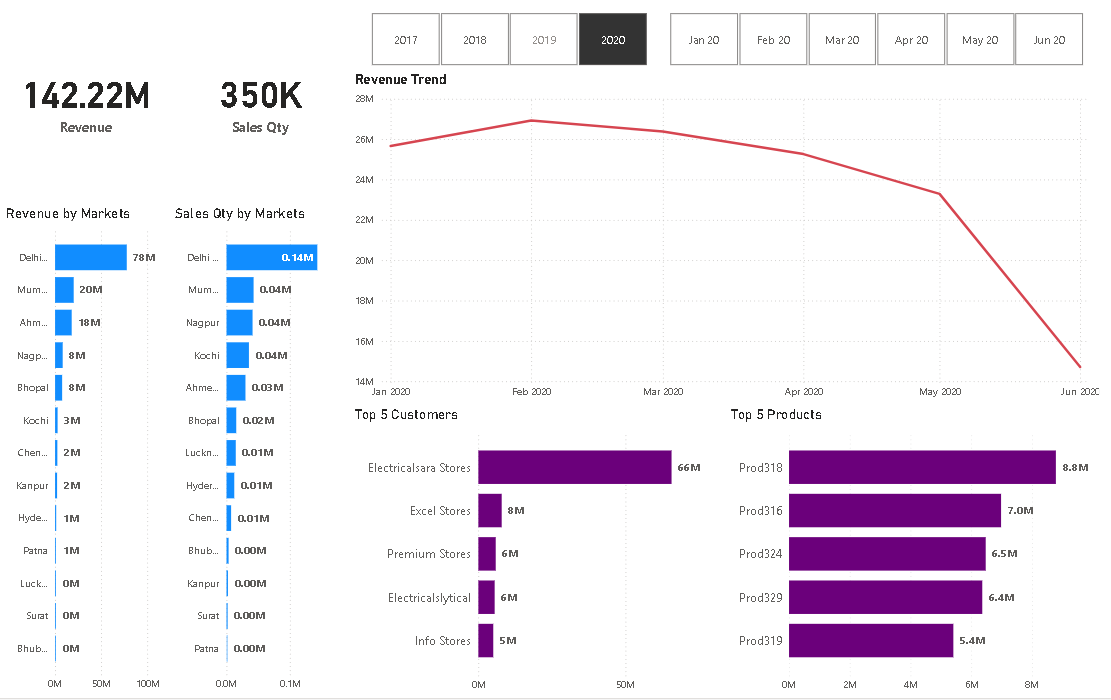

The dashboard page shown, as its layout file describes it:
{"tool":"powerbi","page":{"name":"Page 1","canvas":[1350,850],"ordinal":0},"visuals":[{"type":"card","fields":{"Values":["BaseMeasures.Revenue"]},"box":[0,15,203.9,224],"z":0},{"type":"card","fields":{"Values":["BaseMeasures.Sales Qty"]},"box":[203.9,15,217.3,239],"z":1000},{"type":"barChart","title":"Revenue by Markets","fields":{"Category":["sales markets.markets_name"],"Y":["BaseMeasures.Revenue"]},"box":[0,254.1,203.9,596.7],"z":2000},{"type":"barChart","title":"Sales Qty by Markets","fields":{"Y":["BaseMeasures.Sales Qty"],"Category":["sales markets.markets_name"]},"box":[203.9,254.1,217.3,596.7],"z":3000},{"type":"slicer","fields":{"Values":["sales date.year"]},"box":[421.2,15,381.1,76.9],"z":4000},{"type":"slicer","fields":{"Values":["sales date.cy_date"]},"box":[782.2,15,548.2,76.9],"z":5000},{"type":"barChart","title":"Top 5 Customers","fields":{"Category":["sales customers.custmer_name"],"Y":["BaseMeasures.Revenue"]},"box":[421.2,496.4,454.6,354.3],"z":5001},{"type":"barChart","title":"Top 5 Products","fields":{"Category":["sales transactions.product_code"],"Y":["BaseMeasures.Revenue"]},"box":[875.8,496.4,454.6,354.3],"z":5002},{"type":"lineChart","title":"Revenue Trend","fields":{"Y":["BaseMeasures.Revenue"],"Category":["sales date.cy_date.Variation.Date Hierarchy.Year","sales date.cy_date.Variation.Date Hierarchy.Quarter","sales date.cy_date.Variation.Date Hierarchy.Month","sales date.cy_date.Variation.Date Hierarchy.Day"]},"box":[421.2,91.9,909.2,404.5],"z":5003}]}

Visuals, with their boxes in screenshot pixels (x1, y1, x2, y2), scaled from the page's 1350x850 canvas onto the 1111x700 screenshot:
card - BaseMeasures.Revenue: Rect(0, 12, 168, 197)
card - BaseMeasures.Sales Qty: Rect(168, 12, 347, 209)
"Revenue by Markets" barChart: Rect(0, 209, 168, 699)
"Sales Qty by Markets" barChart: Rect(168, 209, 347, 699)
slicer - sales date.year: Rect(347, 12, 660, 76)
slicer - sales date.cy_date: Rect(644, 12, 1095, 76)
"Top 5 Customers" barChart: Rect(347, 409, 721, 699)
"Top 5 Products" barChart: Rect(721, 409, 1095, 699)
"Revenue Trend" lineChart: Rect(347, 76, 1095, 409)
